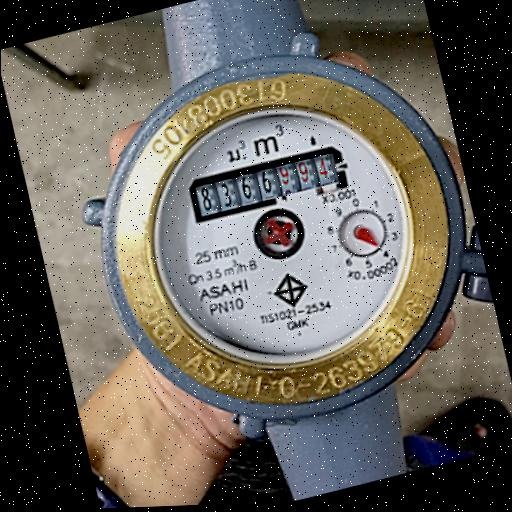3: (214, 179, 236, 211)
4: (313, 154, 334, 186)
6: (256, 167, 276, 200), (235, 173, 256, 204)
8: (194, 183, 217, 216)
9: (294, 158, 314, 191), (276, 164, 296, 195)
border_water_meter_number: (184, 141, 349, 226)
